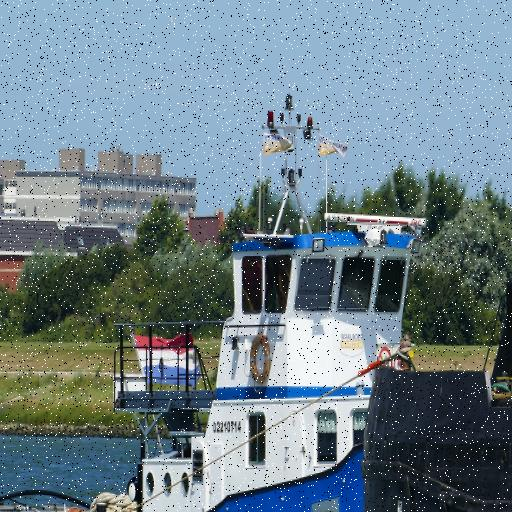tugboat: (1, 209, 426, 512)
